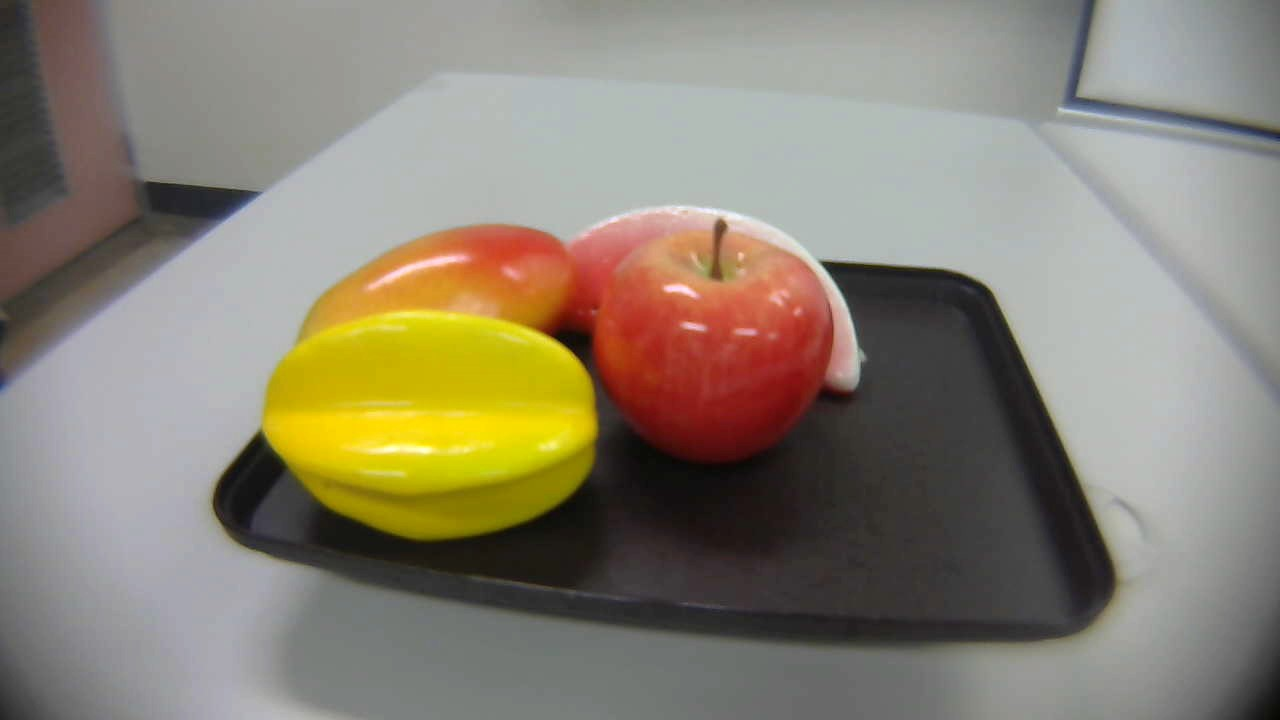red apple: (597, 221, 837, 466)
red mango: (288, 214, 575, 389)
star fruit: (255, 306, 600, 539)
water melon: (558, 194, 873, 411)
